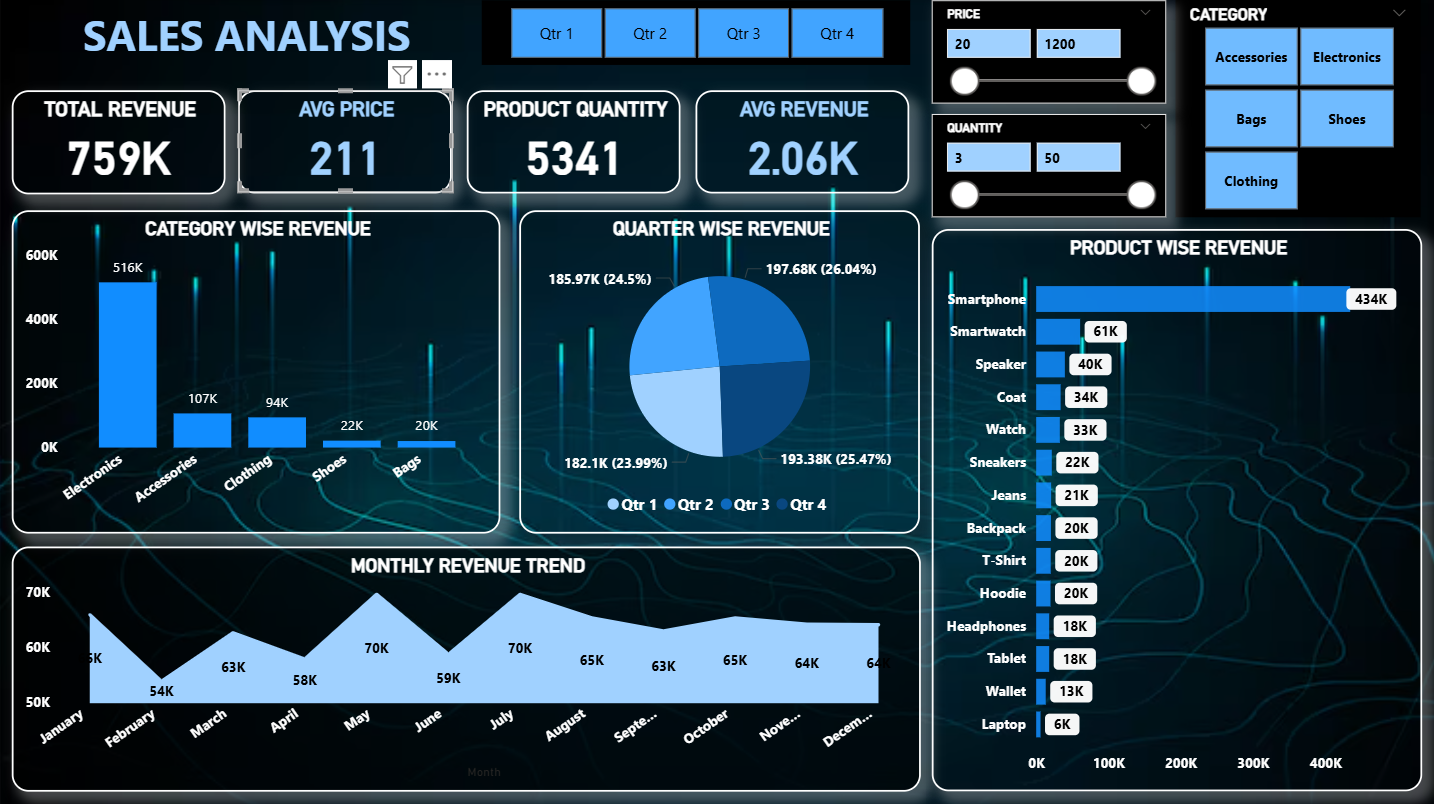

The dashboard page shown, as its layout file describes it:
{"tool":"powerbi","page":{"name":"Page 1","canvas":[1280,720],"ordinal":0},"visuals":[{"type":"card","title":"TOTAL REVENUE","fields":{"Values":["Sum(sales_data_cleaning.REVENUE)"]},"box":[12.3,81,190,93],"z":0},{"type":"card","title":"AVG PRICE","fields":{"Values":["Avg(sales_data_cleaning.PRICE)"]},"box":[214.1,81,190.7,92],"z":1000},{"type":"card","title":"PRODUCT QUANTITY","fields":{"Values":["Sum(sales_data_cleaning.QUANTITY)"]},"box":[417.2,81,190.7,92],"z":2000},{"type":"card","title":"AVG REVENUE","fields":{"Values":["Avg(sales_data_cleaning.REVENUE)"]},"box":[621.6,81,190.7,92],"z":3000},{"type":"columnChart","title":"CATEGORY WISE REVENUE","fields":{"Category":["sales_data_cleaning.CATEGORY"],"Y":["Sum(sales_data_cleaning.REVENUE)"]},"box":[12.1,188.2,435.5,288.3],"z":4000},{"type":"pieChart","title":"QUARTER WISE REVENUE","fields":{"Category":["sales_data_cleaning.ORDER_DATE.Variation.Date Hierarchy.Quarter"],"Y":["Sum(sales_data_cleaning.REVENUE)"]},"box":[464.5,188.2,357.1,288.3],"z":5000},{"type":"barChart","title":"PRODUCT WISE REVENUE","fields":{"Category":["sales_data_cleaning.PRODUCT"],"Y":["Sum(sales_data_cleaning.REVENUE)"]},"box":[831.2,205.1,436.7,500.7],"z":6000},{"type":"stackedAreaChart","title":"MONTHLY REVENUE TREND","fields":{"Category":["sales_data_cleaning.ORDER_DATE.Variation.Date Hierarchy.Month"],"Y":["Sum(sales_data_cleaning.REVENUE)"]},"box":[12.1,487.4,809.5,218.4],"z":7000},{"type":"slicer","fields":{"Values":["sales_data_cleaning.ORDER_DATE.Variation.Date Hierarchy.Quarter"]},"box":[430.7,1.2,381.2,57.9],"z":8000},{"type":"slicer","fields":{"Values":["sales_data_cleaning.CATEGORY"]},"box":[1048.4,0,218.4,194.2],"z":9000},{"type":"slicer","fields":{"Values":["sales_data_cleaning.PRICE"]},"box":[831.2,1.2,208.7,91.7],"z":10000},{"type":"slicer","fields":{"Values":["sales_data_cleaning.QUANTITY"]},"box":[831.2,102.5,208.7,91.7],"z":11000},{"type":"textbox","box":[12.1,1.2,418.6,71.2],"z":12000}]}

Visuals, with their boxes in screenshot pixels (x1, y1, x2, y2), scaled from the page's 1280x720 canvas onto the 1434x804 screenshot:
"TOTAL REVENUE" card: (14, 90, 227, 194)
"AVG PRICE" card: (240, 90, 454, 193)
"PRODUCT QUANTITY" card: (467, 90, 681, 193)
"AVG REVENUE" card: (696, 90, 910, 193)
"CATEGORY WISE REVENUE" columnChart: (14, 210, 501, 532)
"QUARTER WISE REVENUE" pieChart: (520, 210, 920, 532)
"PRODUCT WISE REVENUE" barChart: (931, 229, 1420, 788)
"MONTHLY REVENUE TREND" stackedAreaChart: (14, 544, 920, 788)
slicer - sales_data_cleaning.ORDER_DATE.Variation.Date Hierarchy.Quarter: (483, 1, 910, 66)
slicer - sales_data_cleaning.CATEGORY: (1175, 0, 1419, 217)
slicer - sales_data_cleaning.PRICE: (931, 1, 1165, 104)
slicer - sales_data_cleaning.QUANTITY: (931, 114, 1165, 217)
textbox: (14, 1, 483, 81)
